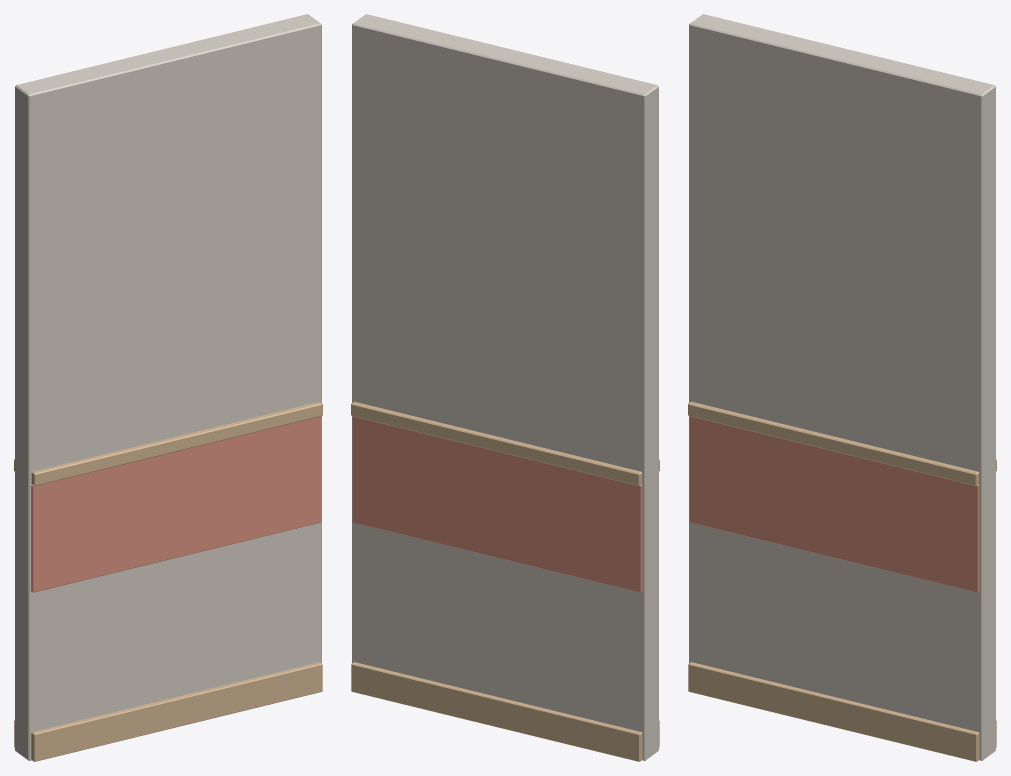
The model's file is care-home-and-day-room-care-home-wall-module-e1c9c5f7__35729.glb.
The picture shows the model from 3 angles, left to right: view 1: azimuth 30°, elevation 25°; view 2: azimuth 150°, elevation 25°; view 3: azimuth 330°, elevation 25°; orthographic projection.
Visible parts, largest first — view 1: care-home-wall-module; view 2: care-home-wall-module; view 3: care-home-wall-module.
Boxes of the visible parts, bbox=[...] form: care-home-wall-module: bbox=[14, 14, 322, 761]; care-home-wall-module: bbox=[351, 14, 659, 761]; care-home-wall-module: bbox=[688, 14, 996, 761].
Size of the model in its own units: 1.2 by 2.6 by 0.1479.
